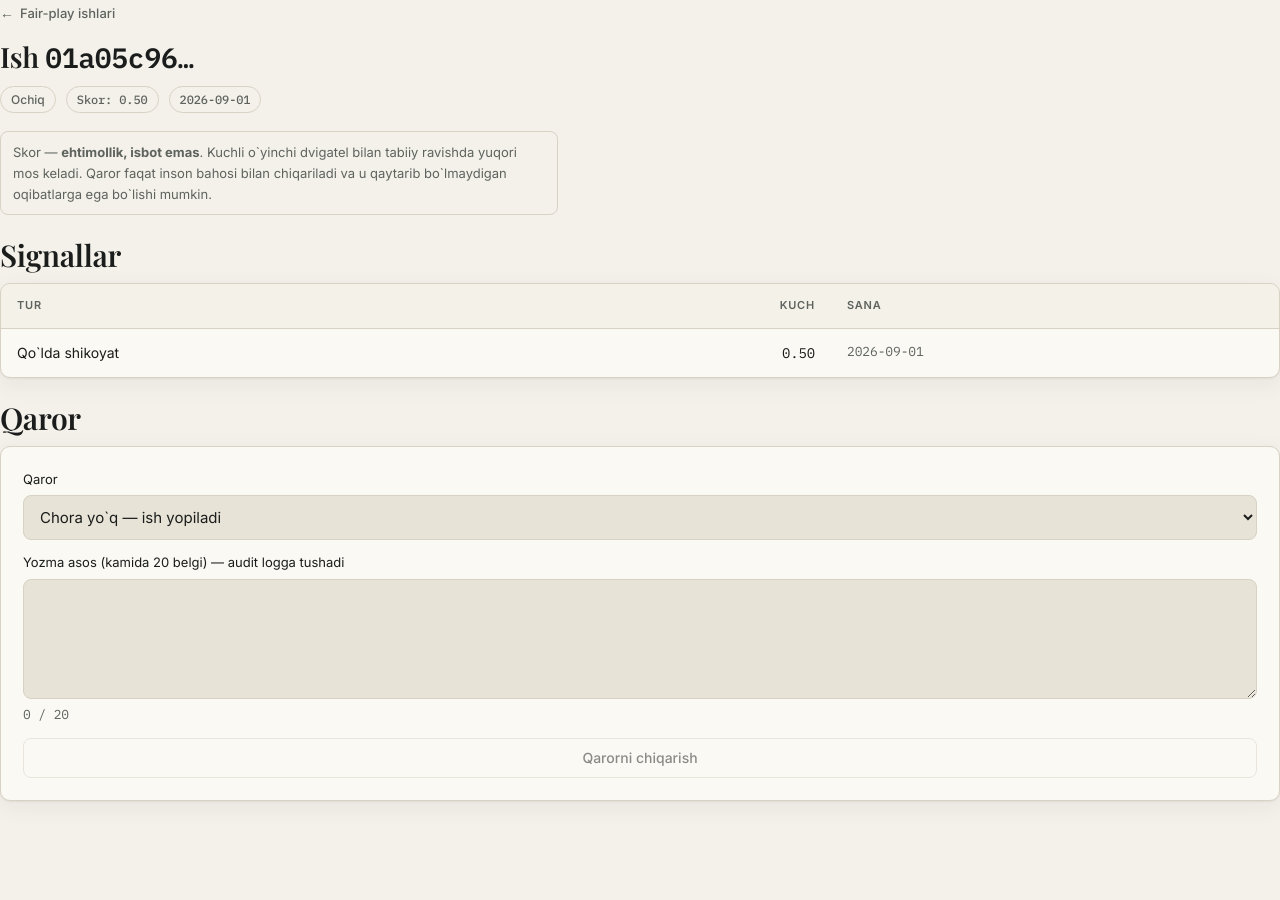
fair-play qaror formasi › SANKSIYA tanlansa muddat MAJBURIY — doimiy ban yo`q (docs/08 §4.3)
This screenshot has width=1280, height=900.
Expected: the heading "Qaror" is shown, 0,398 -> 81,438
Type "Dvigatel mosligi yuqori, uch bosqichda tasdiqlandi va apellyatsiya berilmadi." into the text box at x=640, y=639, box 23,579 -> 1257,699
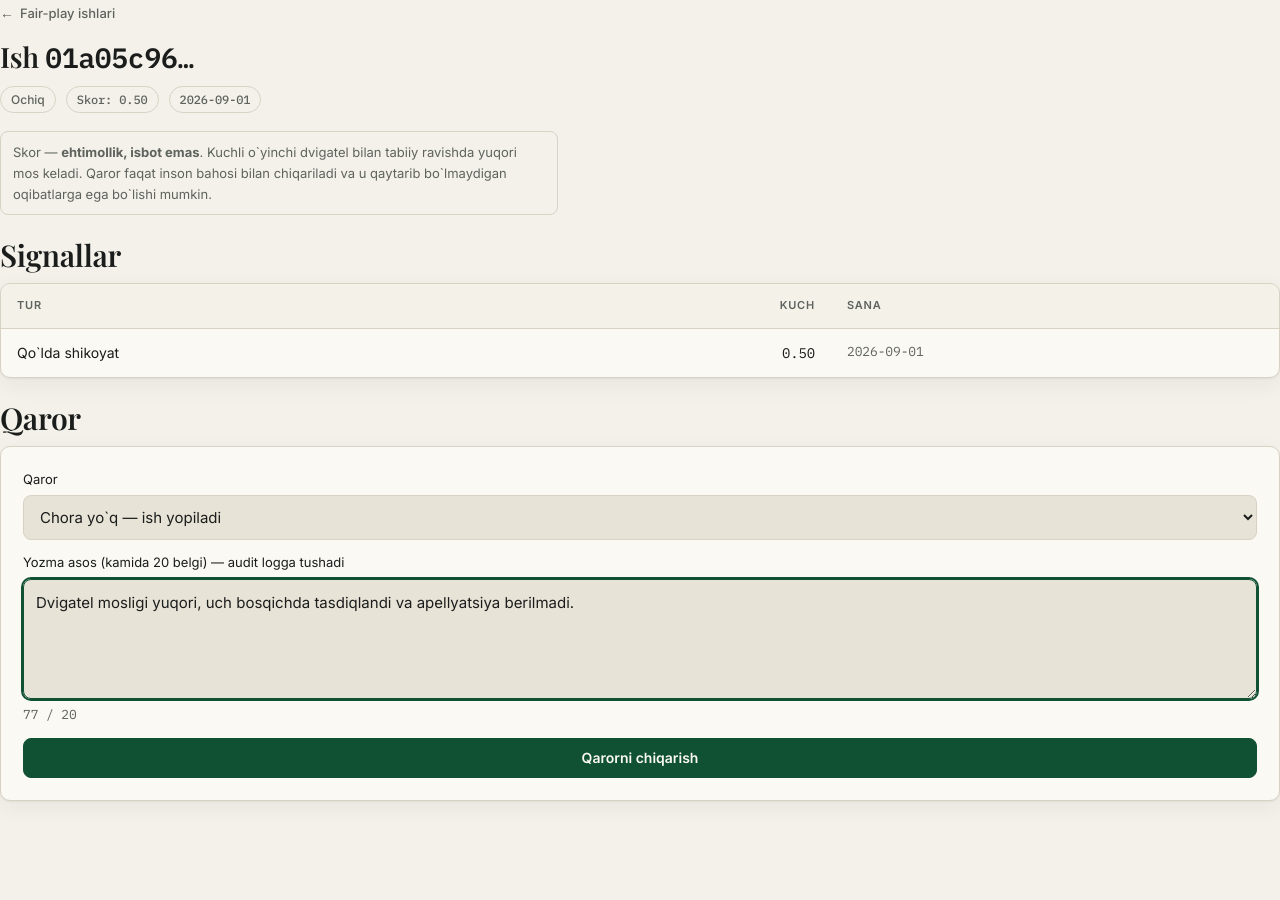
Result: the button "Qarorni chiqarish" is enabled at 23,738 -> 1257,778
Select "Sanksiya (muddat majburiy)" in the dropdown at x=640, y=518, box 23,495 -> 1257,540
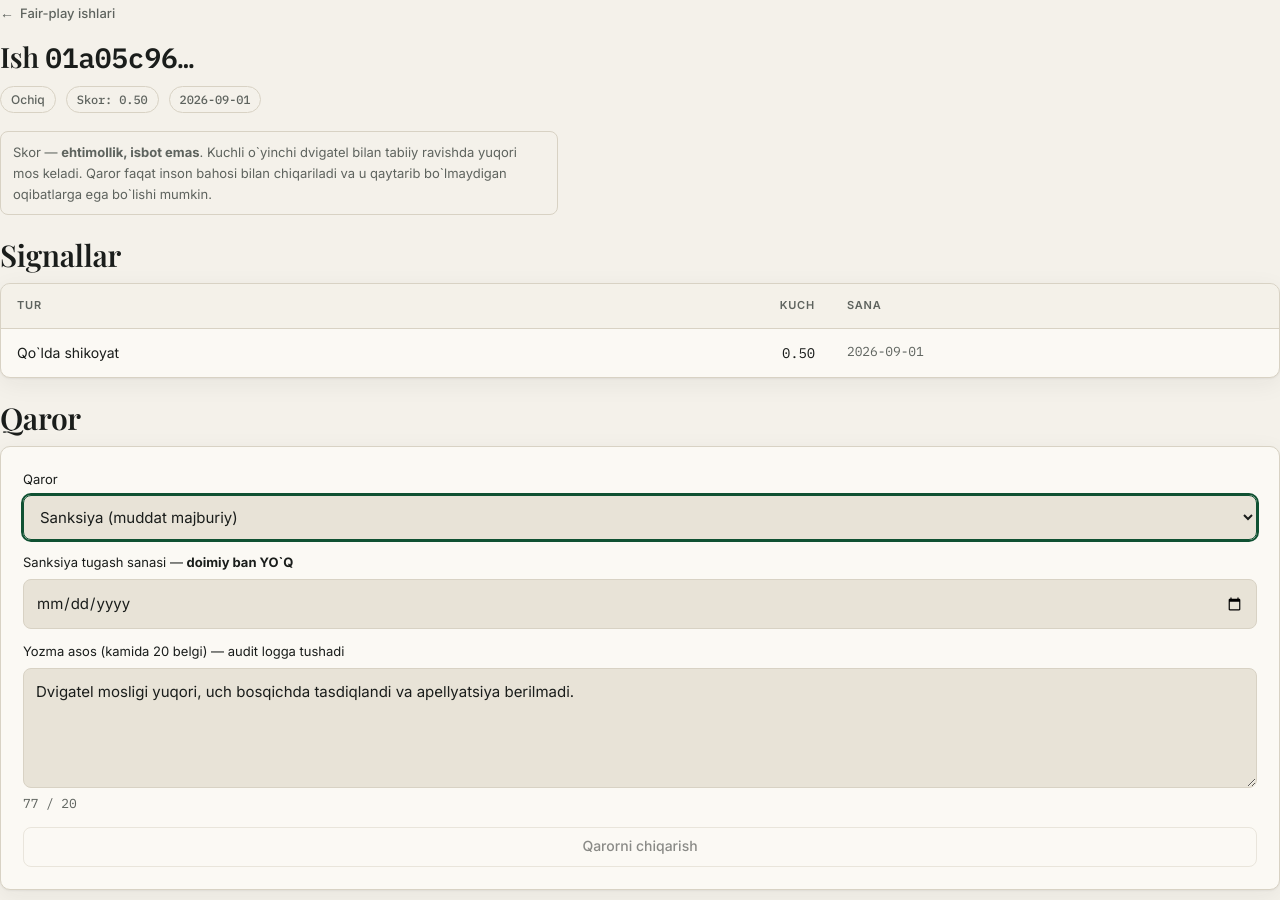
Result: the button "Qarorni chiqarish" is disabled at 23,827 -> 1257,867
